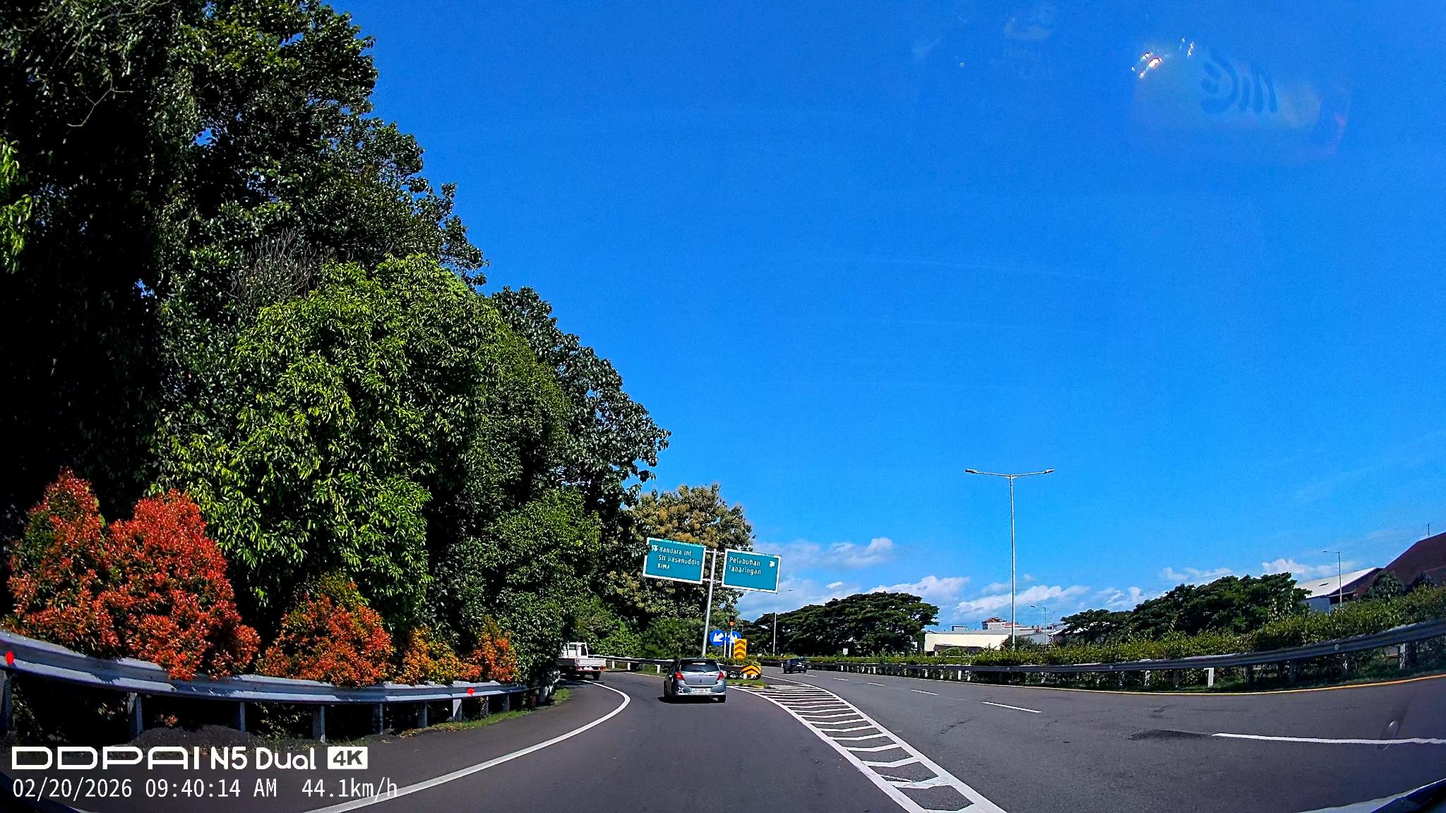rambu_teks: (643, 537, 706, 583), (721, 548, 781, 594)
